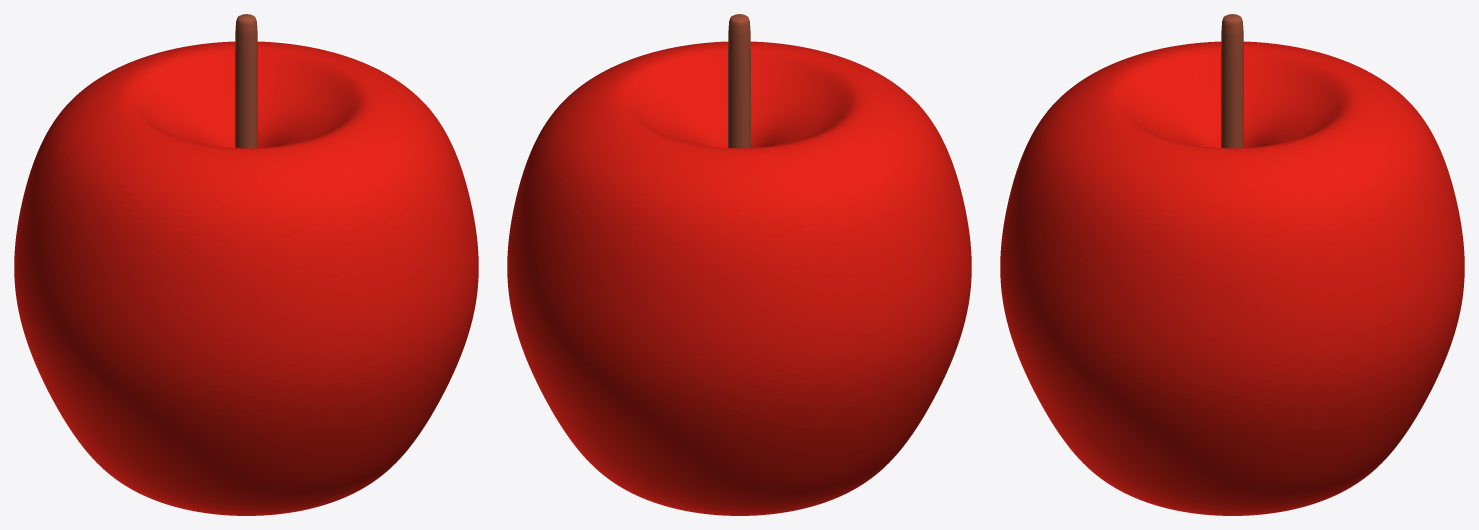
Rendered from Apple.fbx.
3 views of the same model, side by side, from view 1: azimuth 30°, elevation 25°; view 2: azimuth 150°, elevation 25°; view 3: azimuth 270°, elevation 25° (orthographic).
Parts seen in each view (by area): view 1: apple, Bou; view 2: apple, Bou; view 3: apple, Bou.
Part boxes in pixels (x1,y1,x2,y2): apple: (14, 41, 478, 515); Bou: (235, 14, 257, 148); apple: (507, 41, 971, 515); Bou: (728, 14, 750, 148); apple: (1000, 41, 1464, 515); Bou: (1221, 14, 1243, 148).
Size of the model in its own units: 193 by 209 by 193.
